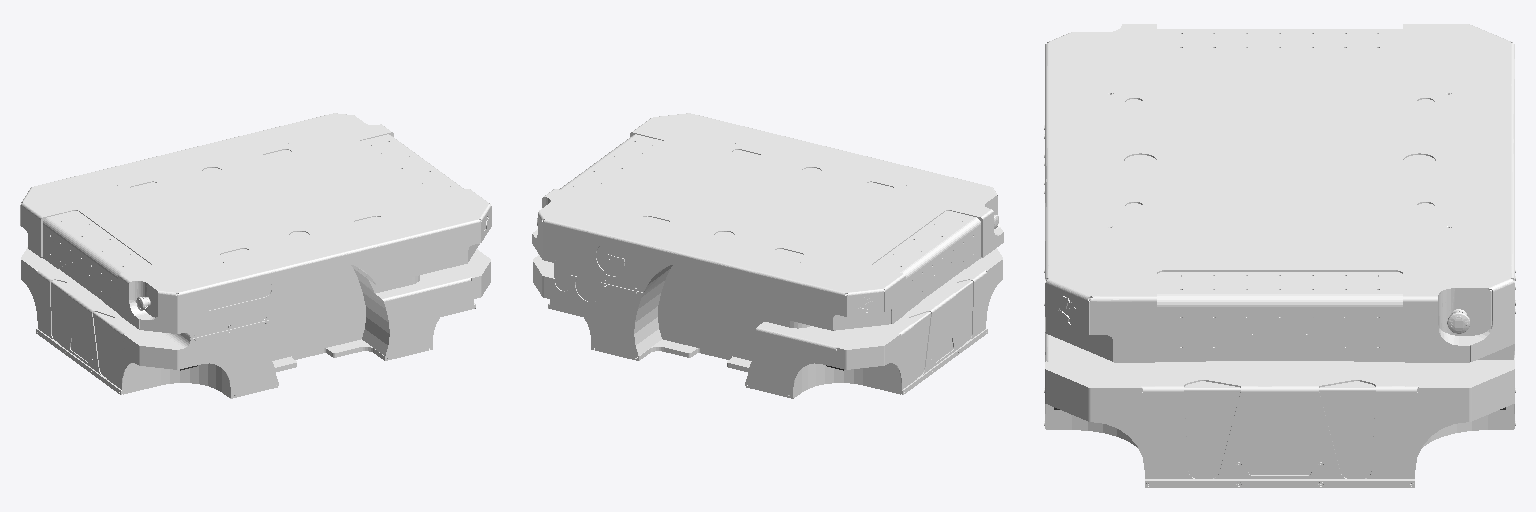
The robot description file, URDF, robot "tmr":
<?xml version="1.0" ?>
<!-- =================================================================================== -->
<!-- |    This document was autogenerated by xacro from robots/tmr.urdf.xacro          | -->
<!-- |    EDITING THIS FILE BY HAND IS NOT RECOMMENDED                                 | -->
<!-- =================================================================================== -->
<robot name="tmr" xmlns:controller="http://playerstage.sourceforge.net/gazebo/xmlschema/#controller" xmlns:interface="http://playerstage.sourceforge.net/gazebo/xmlschema/#interface" xmlns:sensor="http://playerstage.sourceforge.net/gazebo/xmlschema/#sensor">
  <!-- ========================================= -->
  <!-- ||         Inertia Utilities           || -->
  <!-- ========================================= -->
  <!-- ========================================= -->
  <!-- ||         Inertia Utilities           || -->
  <!-- ========================================= -->
  <!-- ========================================= -->
  <!-- ||         Inertia Utilities           || -->
  <!-- ========================================= -->
  <!-- ========================================= -->
  <!-- ||         Inertia Utilities           || -->
  <!-- ========================================= -->
  <material name="aluminum">
    <color rgba="0.5 0.5 0.5 1"/>
  </material>
  <material name="plastic">
    <color rgba="0.1 0.1 0.1 1"/>
  </material>
  <!-- Main Platform Chassis -->
  <link name="base_link">
    <visual>
      <origin rpy="0 0 3.141592653589793" xyz="0 0 0"/>
      <geometry>
        <mesh filename="../meshes/murp/tmr_base.stl"/>
      </geometry>
      <material name="white">
        <color rgba="1.0 1.0 1.0 1.0"/>
      </material>
    </visual>
    <collision>
      <origin rpy="0 0 3.141592653589793" xyz="0 0 0"/>
      <geometry>
        <mesh filename="../meshes/murp/tmr_base.stl"/>
      </geometry>
    </collision>
  </link>
  <link name="base_inertia">
    <inertial>
      <mass value="75"/>
      <inertia ixx="4.540225" ixy="0" ixz="0" iyy="6.06640625" iyz="0" izz="2.6066312499999995"/>
    </inertial>
  </link>
  <joint name="base_inertia_joint" type="fixed">
    <parent link="base_link"/>
    <child link="base_inertia"/>
  </joint>
  <link name="torso_link">
    <visual>
      <geometry>
        <mesh filename="meshes/murp/torso_cover.obj"/>
      </geometry>
      <material name="white">
        <color rgba="1.0 1.0 1.0 1.0"/>
      </material>
    </visual>
    <collision>
      <geometry>
        <mesh filename="meshes/murp/torso_cover.obj"/>
      </geometry>
    </collision>
    <inertial>
      <origin rpy="0 0 0" xyz="-0.374101 0.001522 0.120542"/>
      <mass value="75.711368"/>
      <inertia ixx="1.822241406454" ixy="0.009367998445" ixz="0.855091055826" iyx="0.009367998445" iyy="4.242134556907" iyz="-0.012022054390" izx="0.855091055826" izy="-0.012022054390" izz="4.568496104964"/>
    </inertial>
  </link>
  <joint name="torso_joint" type="fixed">
    <origin rpy="0 0 0" xyz="0.212 0 0.294"/>
    <parent link="base_link"/>
    <child link="torso_link"/>
  </joint>
  <link name="caster_front_left_fixed_link">
    <visual>
      <origin xyz="0 0 -0.0015"/>
      <geometry>
        <box size="0.04 0.03 0.003"/>
      </geometry>
      <material name="darkgrey">
        <color rgba="0.3 0.3 0.3 1.0"/>
      </material>
    </visual>
    <inertial>
      <mass value="0.5"/>
      <inertia ixx="3.7875e-05" ixy="0" ixz="0" iyy="6.704166666666667e-05" iyz="0" izz="0.00010416666666666666"/>
    </inertial>
  </link>
  <joint name="caster_front_left_steering_joint" type="continuous">
    <origin xyz="0.33 0.26 0.124"/>
    <parent link="base_link"/>
    <child link="caster_front_left_fixed_link"/>
    <axis xyz="0 0 1"/>
    <limit effort="500" velocity="20"/>
    <dynamics damping="0.003" friction="0.0"/>
  </joint>
  <link name="caster_front_left_link">
    <visual>
      <origin rpy="1.5707963267948966 0 1.5707963267948966"/>
      <geometry>
        <mesh filename="meshes/murp/caster.stl"/>
      </geometry>
      <material name="darkgrey">
        <color rgba="0.3 0.3 0.3 1.0"/>
      </material>
    </visual>
    <collision>
      <origin rpy="1.5707963267948966 0 1.5707963267948966"/>
      <geometry>
        <mesh filename="meshes/murp/caster.stl"/>
      </geometry>
      <material name="darkgrey">
        <color rgba="0.3 0.3 0.3 1.0"/>
      </material>
    </collision>
    <inertial>
      <mass value="0.5"/>
      <inertia ixx="0.00033854166666666673" ixy="0" ixz="0" iyy="0.00033854166666666673" iyz="0" izz="0.0006250000000000001"/>
    </inertial>
  </link>
  <joint name="caster_front_left_joint" type="continuous">
    <origin rpy="0 0 0" xyz="-0.035 0 -0.074"/>
    <parent link="caster_front_left_fixed_link"/>
    <child link="caster_front_left_link"/>
    <axis xyz="0 1 0"/>
    <limit effort="500" velocity="20"/>
    <dynamics damping="0.003" friction="0.0"/>
  </joint>
  <link name="caster_front_right_fixed_link">
    <visual>
      <origin xyz="0 0 -0.0015"/>
      <geometry>
        <box size="0.04 0.03 0.003"/>
      </geometry>
      <material name="darkgrey">
        <color rgba="0.3 0.3 0.3 1.0"/>
      </material>
    </visual>
    <inertial>
      <mass value="0.5"/>
      <inertia ixx="3.7875e-05" ixy="0" ixz="0" iyy="6.704166666666667e-05" iyz="0" izz="0.00010416666666666666"/>
    </inertial>
  </link>
  <joint name="caster_front_right_steering_joint" type="continuous">
    <origin xyz="0.33 -0.26 0.124"/>
    <parent link="base_link"/>
    <child link="caster_front_right_fixed_link"/>
    <axis xyz="0 0 1"/>
    <limit effort="500" velocity="20"/>
    <dynamics damping="0.003" friction="0.0"/>
  </joint>
  <link name="caster_front_right_link">
    <visual>
      <origin rpy="1.5707963267948966 0 1.5707963267948966"/>
      <geometry>
        <mesh filename="meshes/murp/caster.stl"/>
      </geometry>
      <material name="darkgrey">
        <color rgba="0.3 0.3 0.3 1.0"/>
      </material>
    </visual>
    <collision>
      <origin rpy="1.5707963267948966 0 1.5707963267948966"/>
      <geometry>
        <mesh filename="meshes/murp/caster.stl"/>
      </geometry>
      <material name="darkgrey">
        <color rgba="0.3 0.3 0.3 1.0"/>
      </material>
    </collision>
    <inertial>
      <mass value="0.5"/>
      <inertia ixx="0.00033854166666666673" ixy="0" ixz="0" iyy="0.00033854166666666673" iyz="0" izz="0.0006250000000000001"/>
    </inertial>
  </link>
  <joint name="caster_front_right_joint" type="continuous">
    <origin rpy="0 0 0" xyz="-0.035 0 -0.074"/>
    <parent link="caster_front_right_fixed_link"/>
    <child link="caster_front_right_link"/>
    <axis xyz="0 1 0"/>
    <limit effort="500" velocity="20"/>
    <dynamics damping="0.003" friction="0.0"/>
  </joint>
  <link name="bogie_left_link">
    <visual>
      <origin rpy="1.5707963267948966 0 0"/>
      <geometry>
        <cylinder length="0.0225" radius="0.015"/>
      </geometry>
      <material name="darkgrey">
        <color rgba="0.3 0.3 0.3 1.0"/>
      </material>
    </visual>
    <inertial>
      <mass value="3"/>
      <inertia ixx="0.025656250000000002" ixy="0" ixz="0" iyy="0.0257" iyz="0" izz="0.00015625"/>
    </inertial>
  </link>
  <joint name="bogie_left_joint" type="revolute">
    <origin xyz="-0.18 0.25 0.075"/>
    <parent link="base_link"/>
    <child link="bogie_left_link"/>
    <axis xyz="0 1 0"/>
    <limit effort="500" lower="-0.16" upper="0.18" velocity="20"/>
    <dynamics damping="0.003" friction="0.0"/>
  </joint>
  <link name="l_wheel_link">
    <visual>
      <origin rpy="3.141592653589793 0 0"/>
      <geometry>
        <mesh filename="meshes/murp/wheel.stl"/>
      </geometry>
      <material name="darkgrey">
        <color rgba="0.3 0.3 0.3 1.0"/>
      </material>
    </visual>
    <collision>
      <origin rpy="3.141592653589793 0 0"/>
      <geometry>
        <mesh filename="tmr_description/meshes/collision/wheel_simplified.stl"/>
      </geometry>
    </collision>
    <inertial>
      <mass value="1"/>
      <inertia ixx="0.0041333333333333335" ixy="0" ixz="0" iyy="0.0041333333333333335" iyz="0" izz="0.0072"/>
    </inertial>
  </link>
  <joint name="l_wheel_joint" type="continuous">
    <origin xyz="0.18 0.015 0.045"/>
    <parent link="bogie_left_link"/>
    <child link="l_wheel_link"/>
    <axis xyz="0 1 0"/>
    <limit effort="25" velocity="20"/>
  </joint>
  <link name="caster_rear_left_fixed_link">
    <visual>
      <origin xyz="0 0 -0.0015"/>
      <geometry>
        <box size="0.04 0.03 0.003"/>
      </geometry>
      <material name="darkgrey">
        <color rgba="0.3 0.3 0.3 1.0"/>
      </material>
    </visual>
    <inertial>
      <mass value="0.5"/>
      <inertia ixx="3.7875e-05" ixy="0" ixz="0" iyy="6.704166666666667e-05" iyz="0" izz="0.00010416666666666666"/>
    </inertial>
  </link>
  <joint name="caster_rear_left_steering_joint" type="continuous">
    <origin xyz="-0.13 0.01 0.049"/>
    <parent link="bogie_left_link"/>
    <child link="caster_rear_left_fixed_link"/>
    <axis xyz="0 0 1"/>
    <limit effort="500" velocity="20"/>
    <dynamics damping="0.003" friction="0.0"/>
  </joint>
  <link name="caster_rear_left_link">
    <visual>
      <origin rpy="1.5707963267948966 0 1.5707963267948966"/>
      <geometry>
        <mesh filename="meshes/murp/caster.stl"/>
      </geometry>
      <material name="darkgrey">
        <color rgba="0.3 0.3 0.3 1.0"/>
      </material>
    </visual>
    <collision>
      <origin rpy="1.5707963267948966 0 1.5707963267948966"/>
      <geometry>
        <mesh filename="meshes/murp/caster.stl"/>
      </geometry>
      <material name="darkgrey">
        <color rgba="0.3 0.3 0.3 1.0"/>
      </material>
    </collision>
    <inertial>
      <mass value="0.5"/>
      <inertia ixx="0.00033854166666666673" ixy="0" ixz="0" iyy="0.00033854166666666673" iyz="0" izz="0.0006250000000000001"/>
    </inertial>
  </link>
  <joint name="caster_rear_left_joint" type="continuous">
    <origin rpy="0 0 0" xyz="-0.035 0 -0.074"/>
    <parent link="caster_rear_left_fixed_link"/>
    <child link="caster_rear_left_link"/>
    <axis xyz="0 1 0"/>
    <limit effort="500" velocity="20"/>
    <dynamics damping="0.003" friction="0.0"/>
  </joint>
  <link name="bogie_right_link">
    <visual>
      <origin rpy="1.5707963267948966 0 0"/>
      <geometry>
        <cylinder length="0.0225" radius="0.015"/>
      </geometry>
      <material name="darkgrey">
        <color rgba="0.3 0.3 0.3 1.0"/>
      </material>
    </visual>
    <inertial>
      <mass value="3"/>
      <inertia ixx="0.025656250000000002" ixy="0" ixz="0" iyy="0.0257" iyz="0" izz="0.00015625"/>
    </inertial>
  </link>
  <joint name="bogie_right_joint" type="revolute">
    <origin xyz="-0.18 -0.25 0.075"/>
    <parent link="base_link"/>
    <child link="bogie_right_link"/>
    <axis xyz="0 1 0"/>
    <limit effort="500" lower="-0.16" upper="0.18" velocity="20"/>
    <dynamics damping="0.003" friction="0.0"/>
  </joint>
  <link name="r_wheel_link">
    <visual>
      <origin rpy="0 0 0"/>
      <geometry>
        <mesh filename="meshes/murp/wheel.stl"/>
      </geometry>
      <material name="darkgrey">
        <color rgba="0.3 0.3 0.3 1.0"/>
      </material>
    </visual>
    <collision>
      <origin rpy="0 0 0"/>
      <geometry>
        <mesh filename="tmr_description/meshes/collision/wheel_simplified.stl"/>
      </geometry>
    </collision>
    <inertial>
      <mass value="1"/>
      <inertia ixx="0.0041333333333333335" ixy="0" ixz="0" iyy="0.0041333333333333335" iyz="0" izz="0.0072"/>
    </inertial>
  </link>
  <joint name="r_wheel_joint" type="continuous">
    <origin xyz="0.18 -0.015 0.045"/>
    <parent link="bogie_right_link"/>
    <child link="r_wheel_link"/>
    <axis xyz="0 1 0"/>
    <limit effort="25" velocity="20"/>
  </joint>
  <link name="caster_rear_right_fixed_link">
    <visual>
      <origin xyz="0 0 -0.0015"/>
      <geometry>
        <box size="0.04 0.03 0.003"/>
      </geometry>
      <material name="darkgrey">
        <color rgba="0.3 0.3 0.3 1.0"/>
      </material>
    </visual>
    <inertial>
      <mass value="0.5"/>
      <inertia ixx="3.7875e-05" ixy="0" ixz="0" iyy="6.704166666666667e-05" iyz="0" izz="0.00010416666666666666"/>
    </inertial>
  </link>
  <joint name="caster_rear_right_steering_joint" type="continuous">
    <origin xyz="-0.13 -0.01 0.049"/>
    <parent link="bogie_right_link"/>
    <child link="caster_rear_right_fixed_link"/>
    <axis xyz="0 0 1"/>
    <limit effort="500" velocity="20"/>
    <dynamics damping="0.003" friction="0.0"/>
  </joint>
  <link name="caster_rear_right_link">
    <visual>
      <origin rpy="1.5707963267948966 0 1.5707963267948966"/>
      <geometry>
        <mesh filename="meshes/murp/caster.stl"/>
      </geometry>
      <material name="darkgrey">
        <color rgba="0.3 0.3 0.3 1.0"/>
      </material>
    </visual>
    <collision>
      <origin rpy="1.5707963267948966 0 1.5707963267948966"/>
      <geometry>
        <mesh filename="meshes/murp/caster.stl"/>
      </geometry>
      <material name="darkgrey">
        <color rgba="0.3 0.3 0.3 1.0"/>
      </material>
    </collision>
    <inertial>
      <mass value="0.5"/>
      <inertia ixx="0.00033854166666666673" ixy="0" ixz="0" iyy="0.00033854166666666673" iyz="0" izz="0.0006250000000000001"/>
    </inertial>
  </link>
  <joint name="caster_rear_right_joint" type="continuous">
    <origin rpy="0 0 0" xyz="-0.035 0 -0.074"/>
    <parent link="caster_rear_right_fixed_link"/>
    <child link="caster_rear_right_link"/>
    <axis xyz="0 1 0"/>
    <limit effort="500" velocity="20"/>
    <dynamics damping="0.003" friction="0.0"/>
  </joint>
</robot>

--- What the picture shows (computed from the rendered views, not written in the file) ---
The picture shows the robot from 3 angles, left to right: view 1: azimuth 30°, elevation 25°; view 2: azimuth 150°, elevation 25°; view 3: azimuth 270°, elevation 25°; orthographic projection.
Robot: tmr — 15 links, 14 joints (2 revolute, 10 continuous, 2 fixed); root link base_link; default pose: all joints at 0.
Links seen in each view (by area): view 1: base_link; view 2: base_link; view 3: base_link.
Boxes of the visible links, x1,y1,x2,y2 form: base_link: (20, 113, 491, 398); base_link: (532, 113, 1003, 398); base_link: (1044, 24, 1515, 487).
Size in the robot's own frame: 0.8001 by 0.5741 by 0.2541 metres.
1 mesh visuals loaded from 4 distinct referenced files (1 binary STL); not drawn: 7 (reference not matched to a file when rendering).
